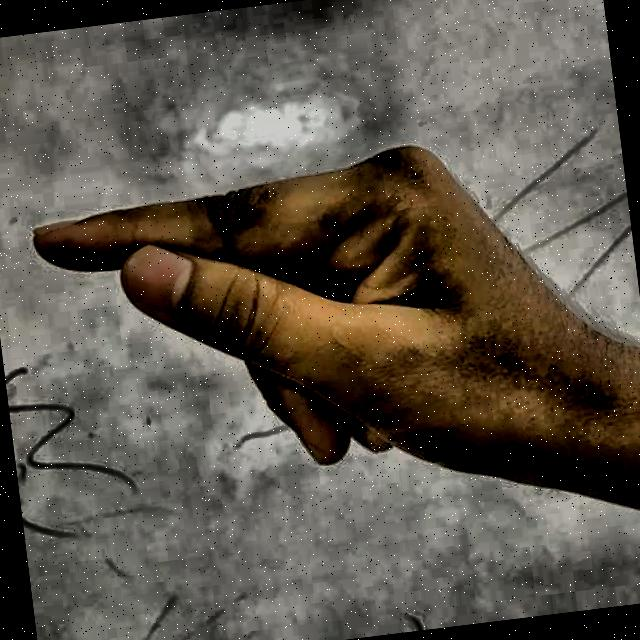Tha: (2, 93, 640, 603)
